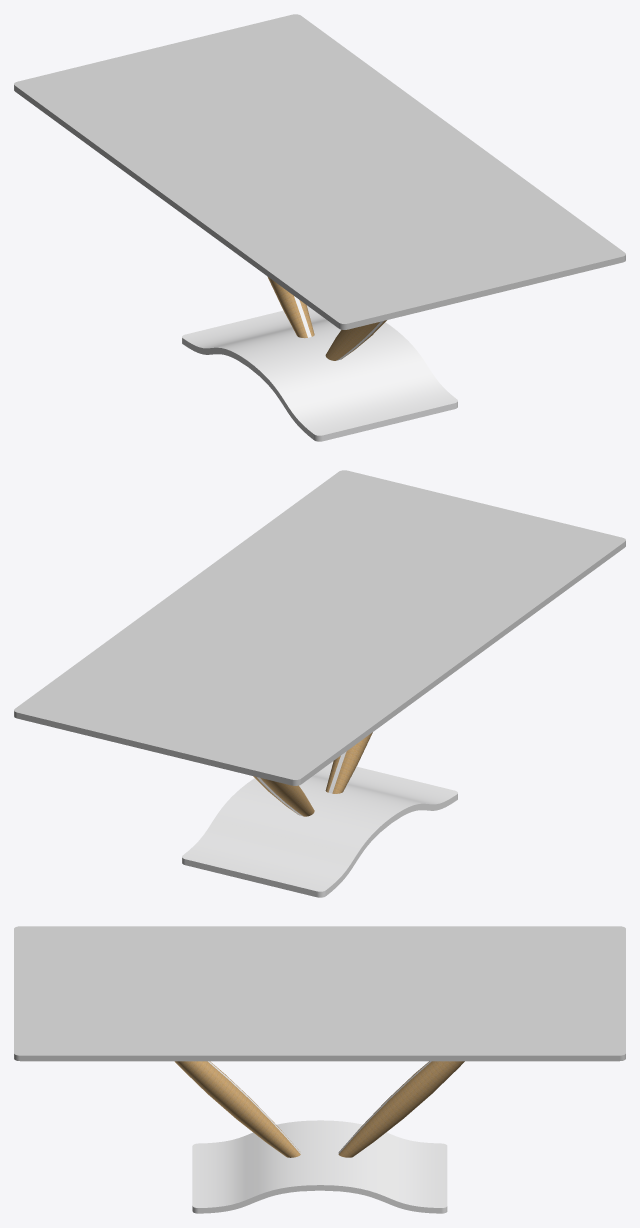
The model's file is rigged.glb.
3 renders of one model, top to bottom at view 1: azimuth 30°, elevation 25°; view 2: azimuth 150°, elevation 25°; view 3: azimuth 270°, elevation 25°, orthographic. The views are drawn at different scales.
Visible parts, largest first — view 1: Piano_Vetro, Base_Centrale, Pancia_B, Pancia_A__1_; view 2: Piano_Vetro, Base_Centrale, Pancia_A__1_, Pancia_B; view 3: Piano_Vetro, Base_Centrale, Pancia_A, Pancia_B__1_.
Boxes of the visible parts, x1=… form: Piano_Vetro: x1=14, y1=14, x2=625, y2=329; Base_Centrale: x1=182, y1=305, x2=457, y2=441; Pancia_B: x1=325, y1=322, x2=379, y2=360; Pancia_A__1_: x1=267, y1=276, x2=307, y2=338; Piano_Vetro: x1=14, y1=470, x2=625, y2=785; Base_Centrale: x1=182, y1=761, x2=457, y2=897; Pancia_A__1_: x1=260, y1=778, x2=314, y2=816; Pancia_B: x1=332, y1=732, x2=372, y2=793; Piano_Vetro: x1=14, y1=926, x2=625, y2=1061; Base_Centrale: x1=192, y1=1120, x2=447, y2=1213; Pancia_A: x1=174, y1=1061, x2=300, y2=1157; Pancia_B__1_: x1=338, y1=1061, x2=464, y2=1157.
Size of the model in its own units: 0.6 by 0.412 by 1.2.
3 materials, 1 textured.
